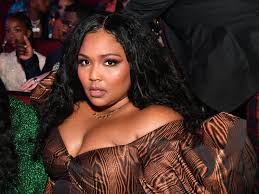black_female: (65, 11, 148, 110)
